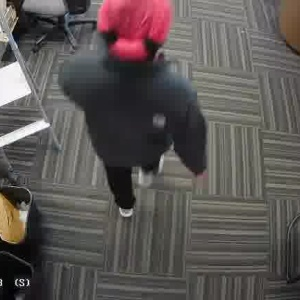person: (66, 0, 210, 216)
